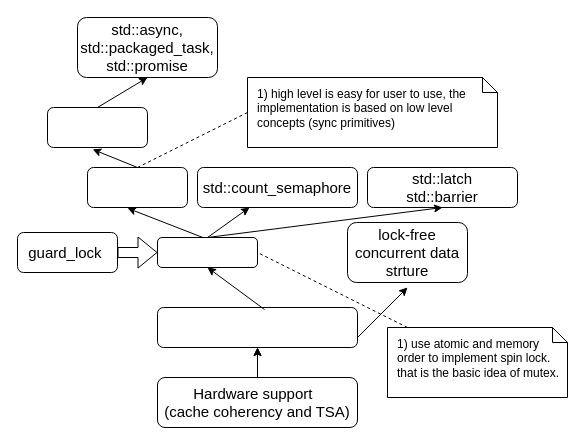
The diagram is 585 pixels wide and 445 high, and some of its shapes have lost their labels. Each missing label, with the centre of its shape:
atomic and memory order: [257,327]
condition variable: [137,187]
std::future: [97,127]
std::mutex: [207,252]
